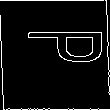P_E: (7, 36, 103, 74)
